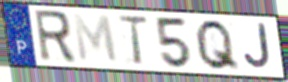5: (154, 15, 194, 70)
J: (242, 22, 274, 72)
M: (70, 12, 120, 65)
Q: (194, 18, 242, 73)
R: (32, 9, 79, 66)
T: (116, 15, 151, 67)
